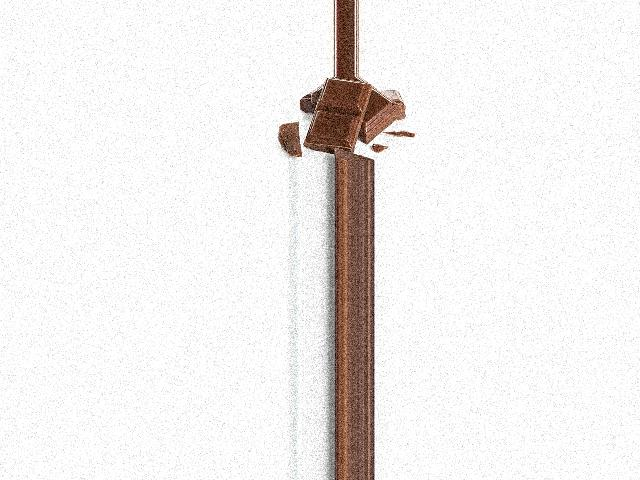chocolate: (306, 81, 372, 151)
